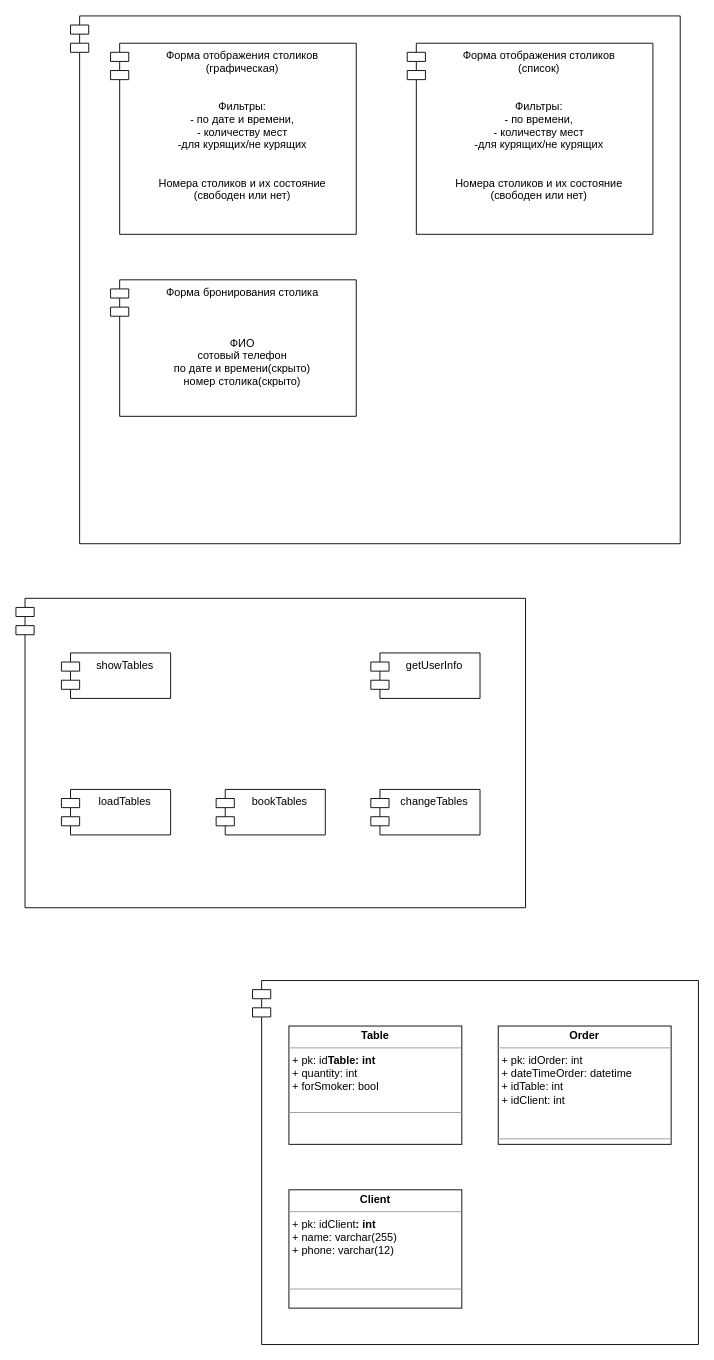
Image size: 714x1360. Some labels were removed from this diagram. Each missing label, with the box of its shape:
Model: (252, 980, 698, 1345)
Presenter: (15, 597, 526, 908)
View: (70, 15, 680, 544)
